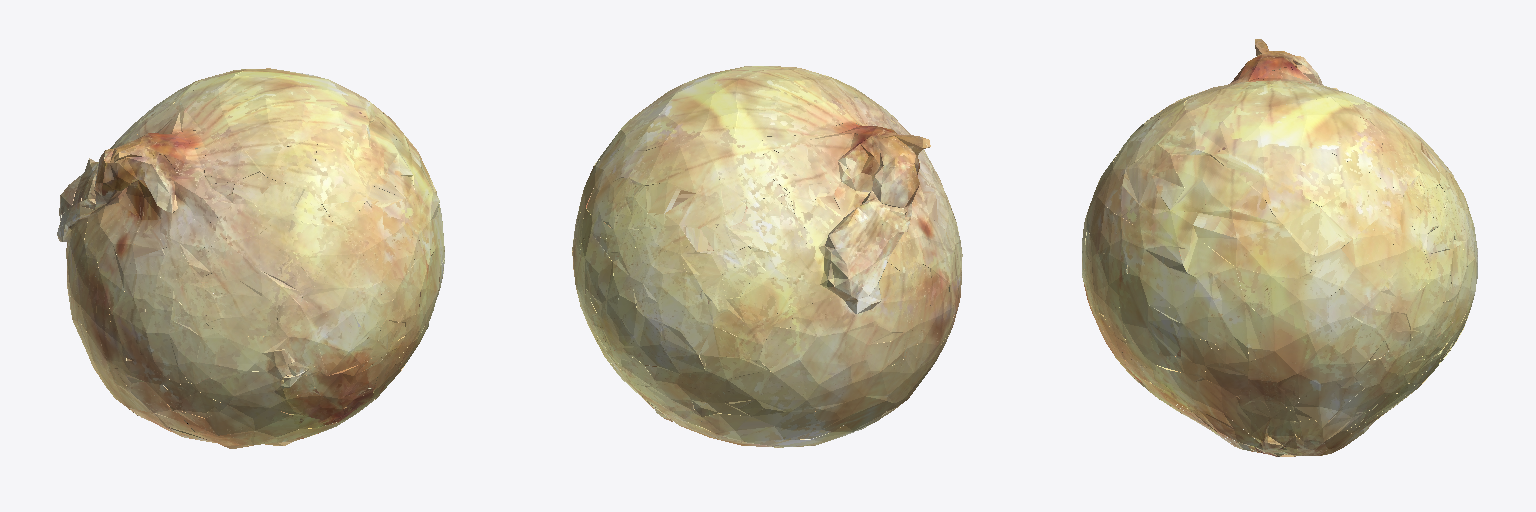
The picture shows the model from 3 angles: view 1: azimuth 30°, elevation 25°; view 2: azimuth 150°, elevation 25°; view 3: azimuth 270°, elevation 25°; orthographic projection.
Parts seen in each view (by area): view 1: onion; view 2: onion; view 3: onion.
Boxes of the visible parts, x1,y1,x2,y2 form: onion: [57, 68, 444, 448]; onion: [572, 66, 962, 447]; onion: [1082, 39, 1477, 456].
Size of the model in its own units: 1.11 by 1.07 by 1.15.
2 materials, 1 textured.